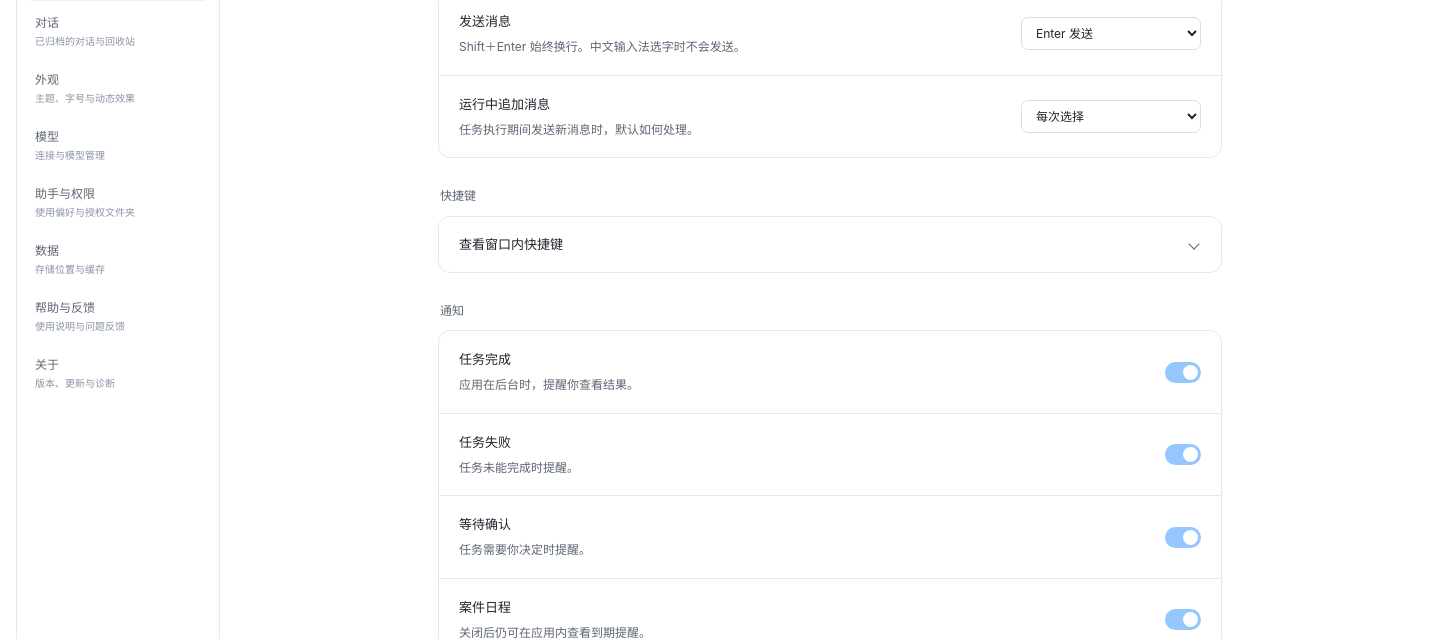
Test case: a failed save shows an error without claiming success
Click the button "助手与权限 使用偏好与授权文件夹": (118, 202) [24,174,212,229]
(page scrolled)
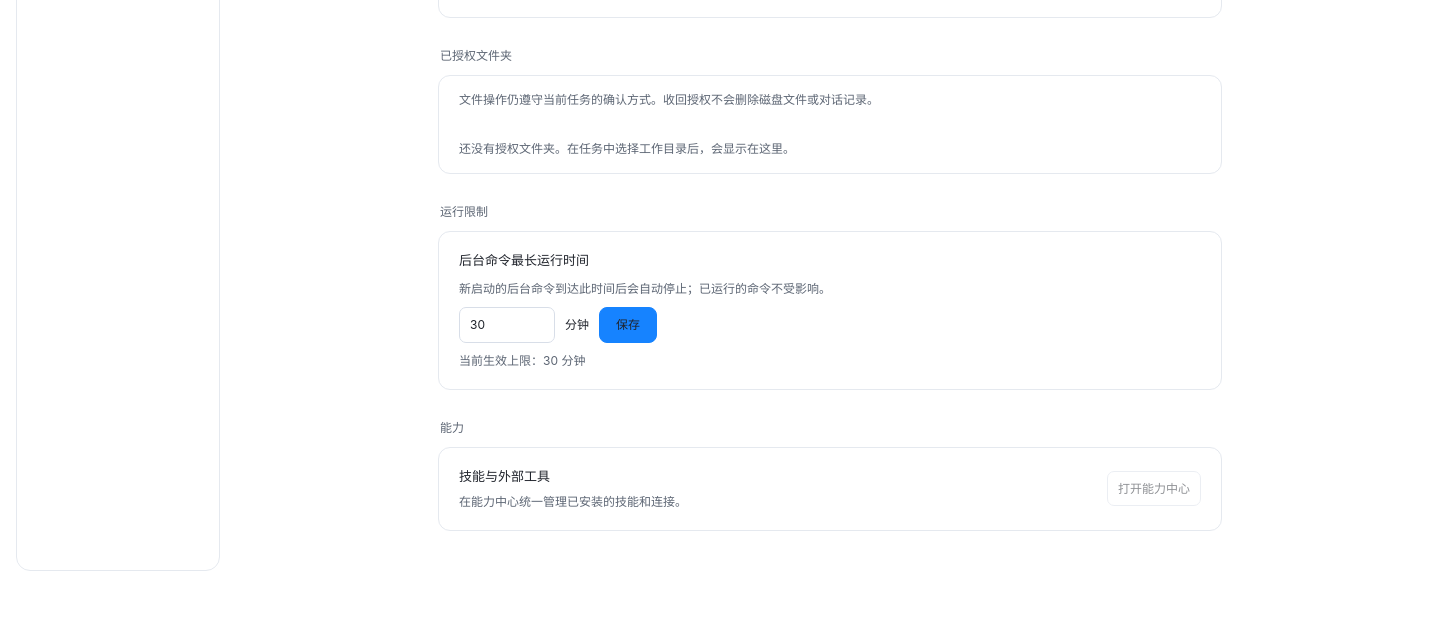
Now the number field named "后台命令最长运行时间" holds "30"
Replace the text in the number field named "后台命令最长运行时间" with "45": (507, 325) [459,307,555,342]
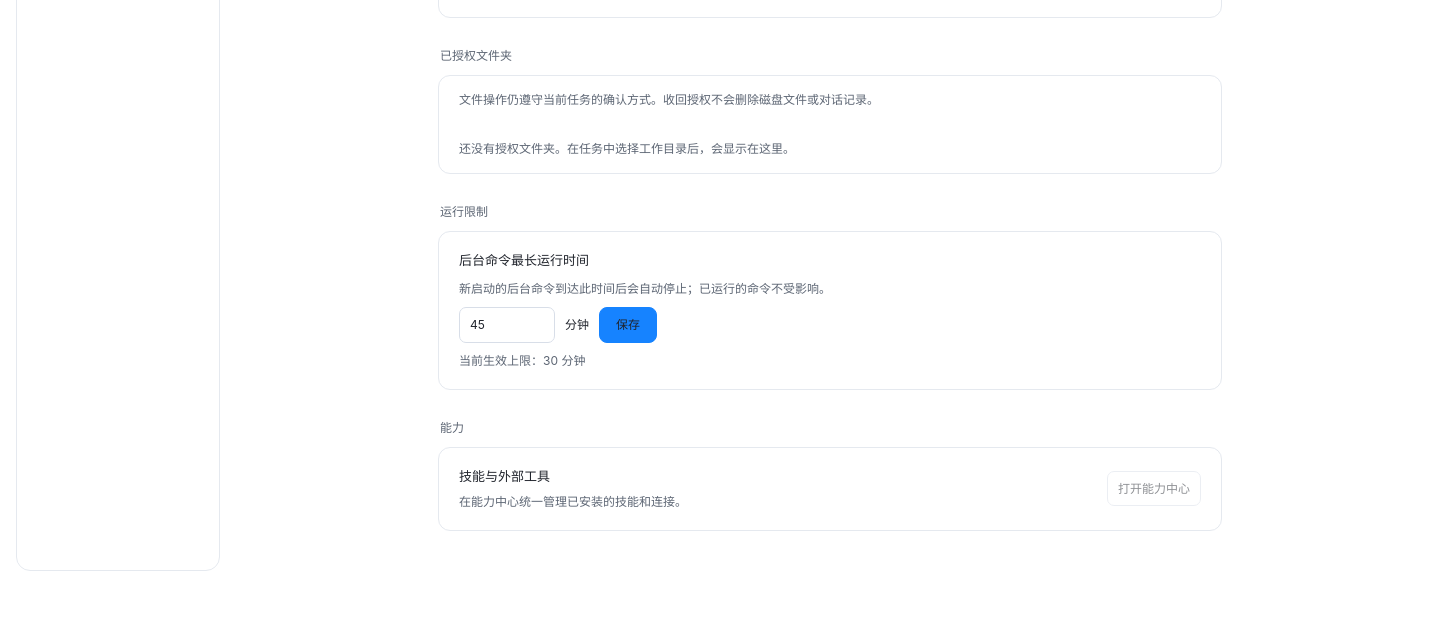
Click the button "保存": (628, 325) [599,307,657,342]
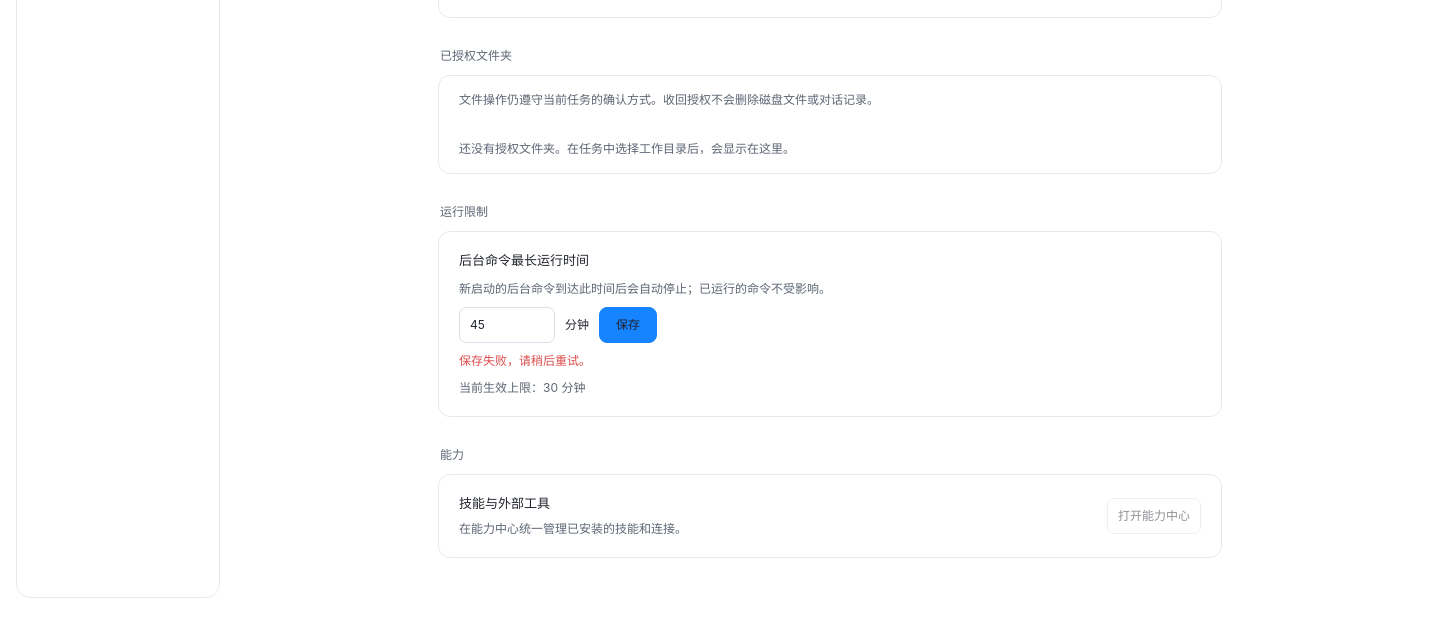
Now the text "保存失败，请稍后重试。" is shown, box [459,352,591,368]
